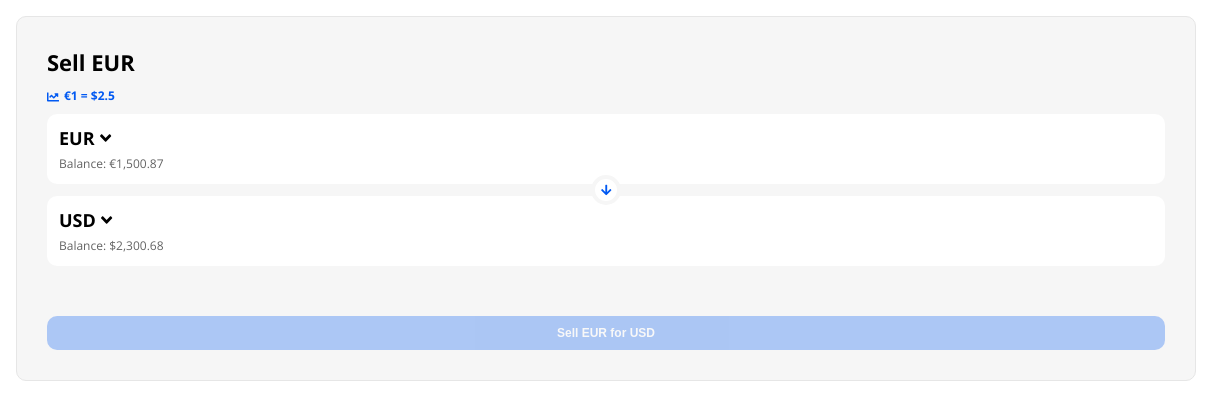
Scenario: <ExchangeAccountsManager /> › Should open and close account dropdown after clicking account name
This screenshot has width=1213, height=398.
Click the element with test id "account-root-EUR".
click(85, 138)  # box [59,126,111,150]
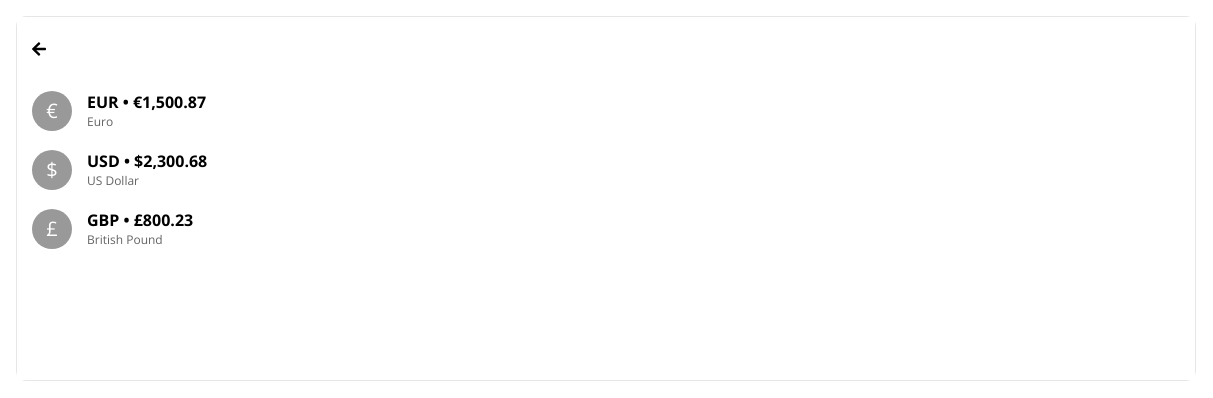
Now the element with test id "account-list" is shown
Now the element with test id "account-item-EUR" is shown, box [32,90,206,130]
Now the element with test id "account-item-USD" is shown, box [32,150,207,190]
Click the element with test id "account-item-GBP".
click(113, 228)  # box [32,208,193,248]
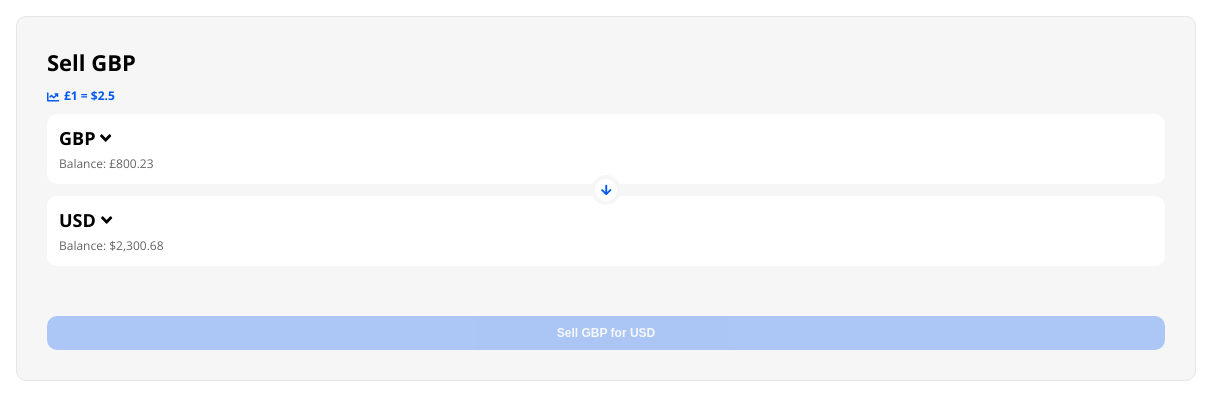
Now the element with test id "account-list" is gone
Now the text with test id "exchange-title" reads "Sell GBP", box [47,47,136,77]
